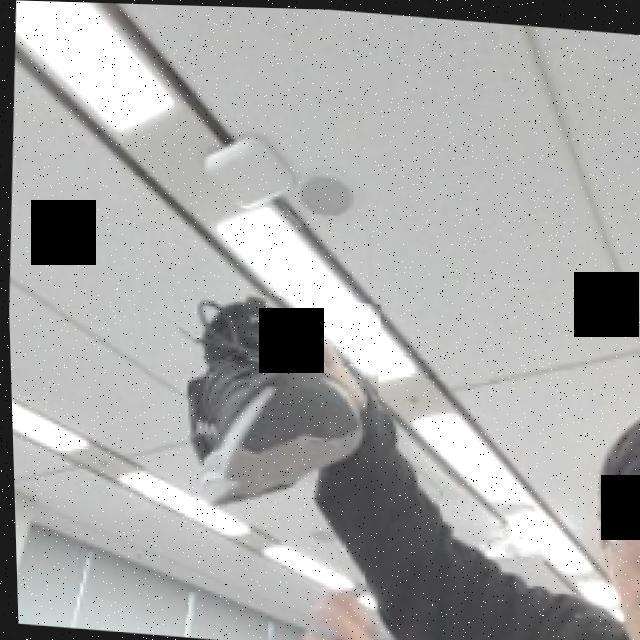shoe: (136, 285, 385, 531)
